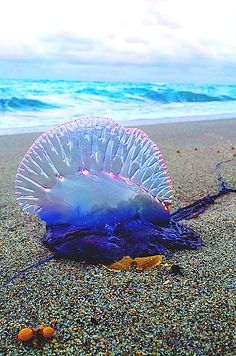mountain: (20, 120, 172, 215)
sky_cloud: (0, 14, 236, 94)
